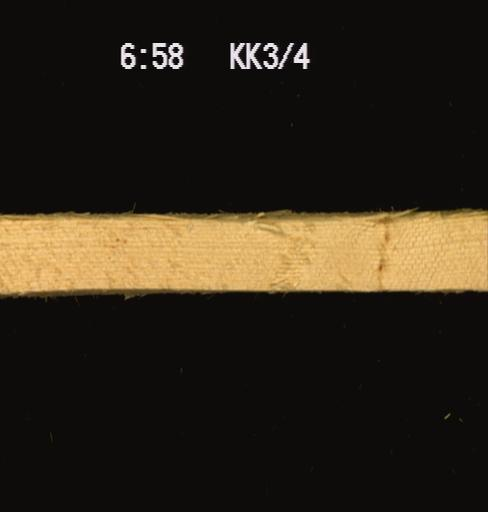small_knot: (365, 222, 412, 287)
